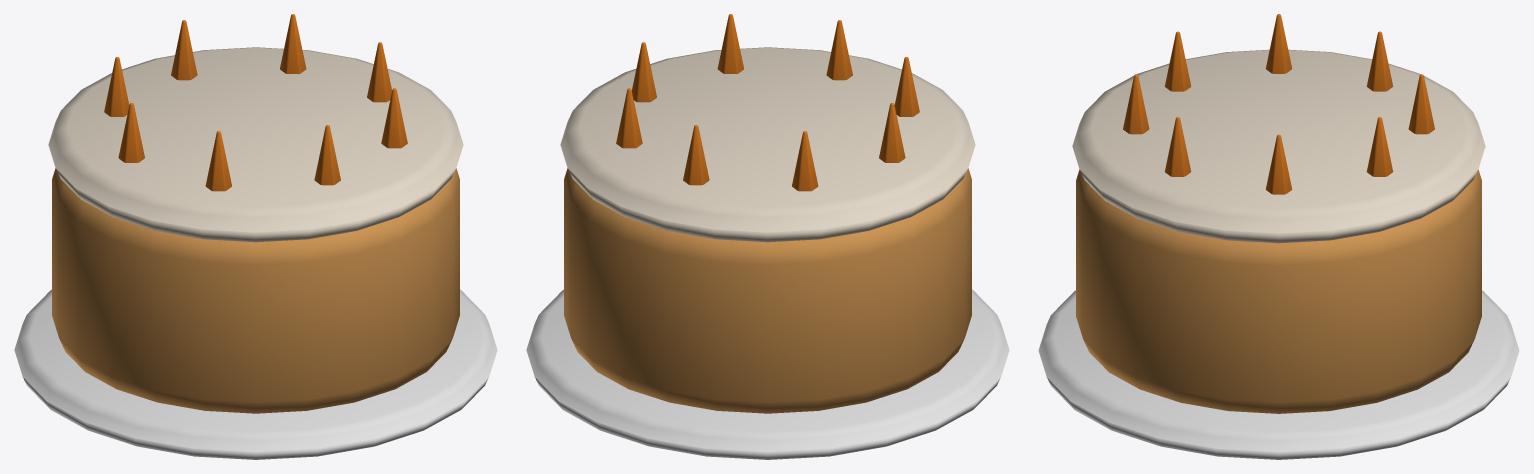
File: food_carrot_cake.glb
The picture shows the model from 3 angles, left to right: view 1: azimuth 30°, elevation 25°; view 2: azimuth 150°, elevation 25°; view 3: azimuth 270°, elevation 25°; orthographic projection.
Parts seen in each view (by area): view 1: food_carrot_cake; view 2: food_carrot_cake; view 3: food_carrot_cake.
Part boxes in pixels (<box>): food_carrot_cake: <box>14,14,497,459</box>; food_carrot_cake: <box>526,14,1009,459</box>; food_carrot_cake: <box>1038,14,1519,459</box>.
Size of the model in its own units: 0.64 by 0.425 by 0.64.
